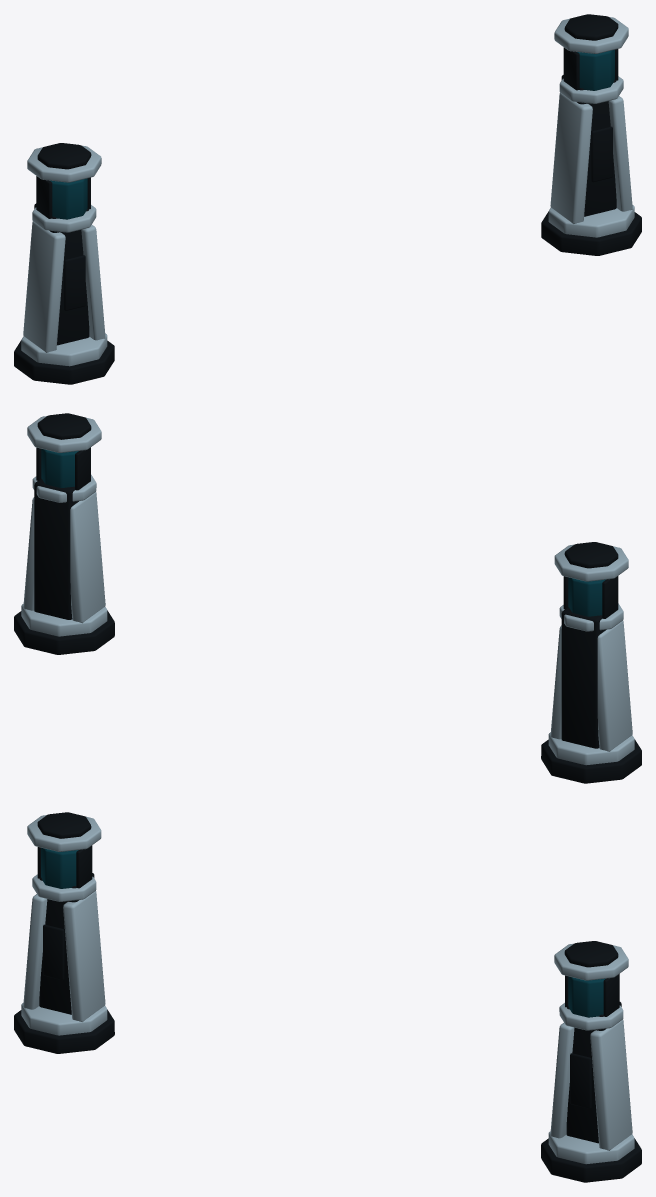
File: SavePointBody.obj
3 renders of one model, top to bottom at view 1: azimuth 30°, elevation 25°; view 2: azimuth 150°, elevation 25°; view 3: azimuth 330°, elevation 25°, orthographic.
Visible parts, largest first — view 1: SavePointBody; view 2: SavePointBody; view 3: SavePointBody.
Boxes of the visible parts, <box> form: SavePointBody: <box>14,14,641,384</box>; SavePointBody: <box>14,413,641,783</box>; SavePointBody: <box>14,812,641,1182</box>.
Size of the model in its own units: 9.47 by 3.13 by 1.27.
3 materials, 3 textured.
